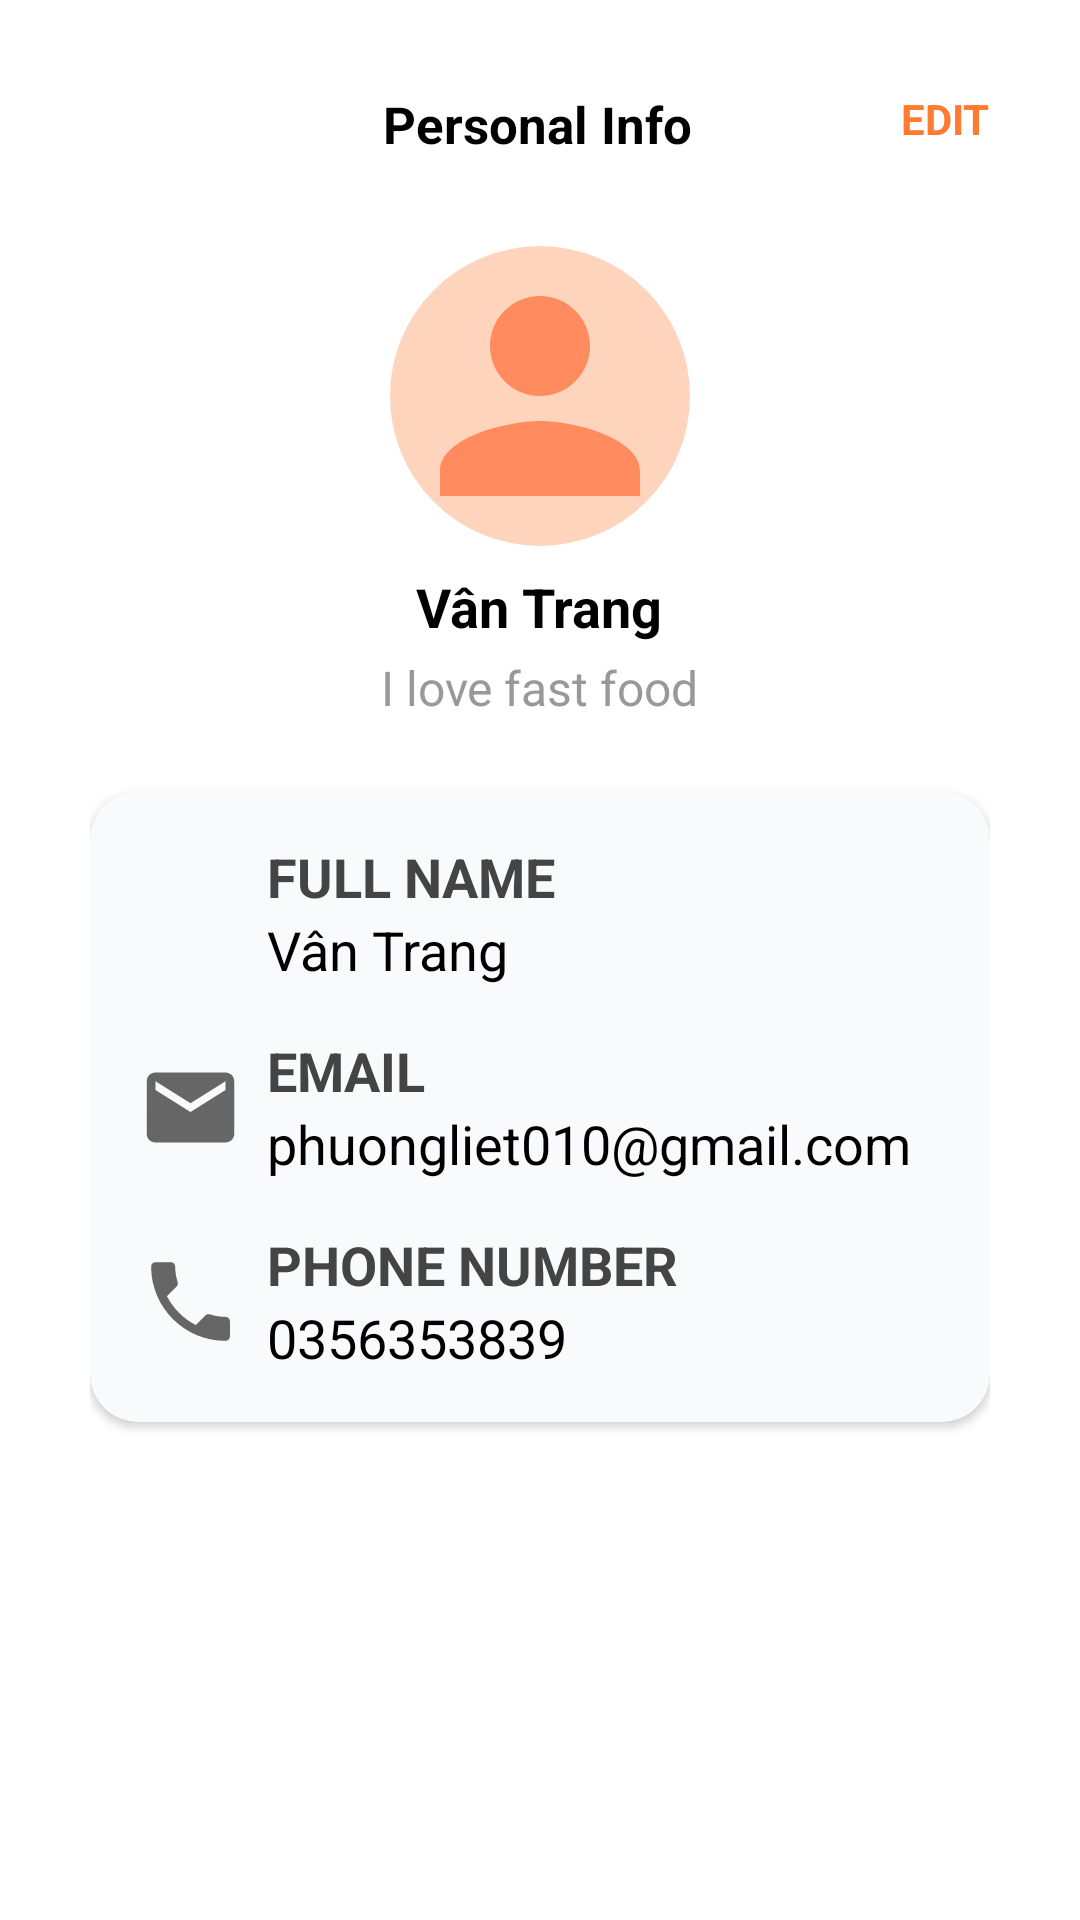

Named icons in this screenshot (1080 x 1920) and their bounding boxes, (x1, y1, x2, y2):
intro pic: (390, 246, 690, 546)
